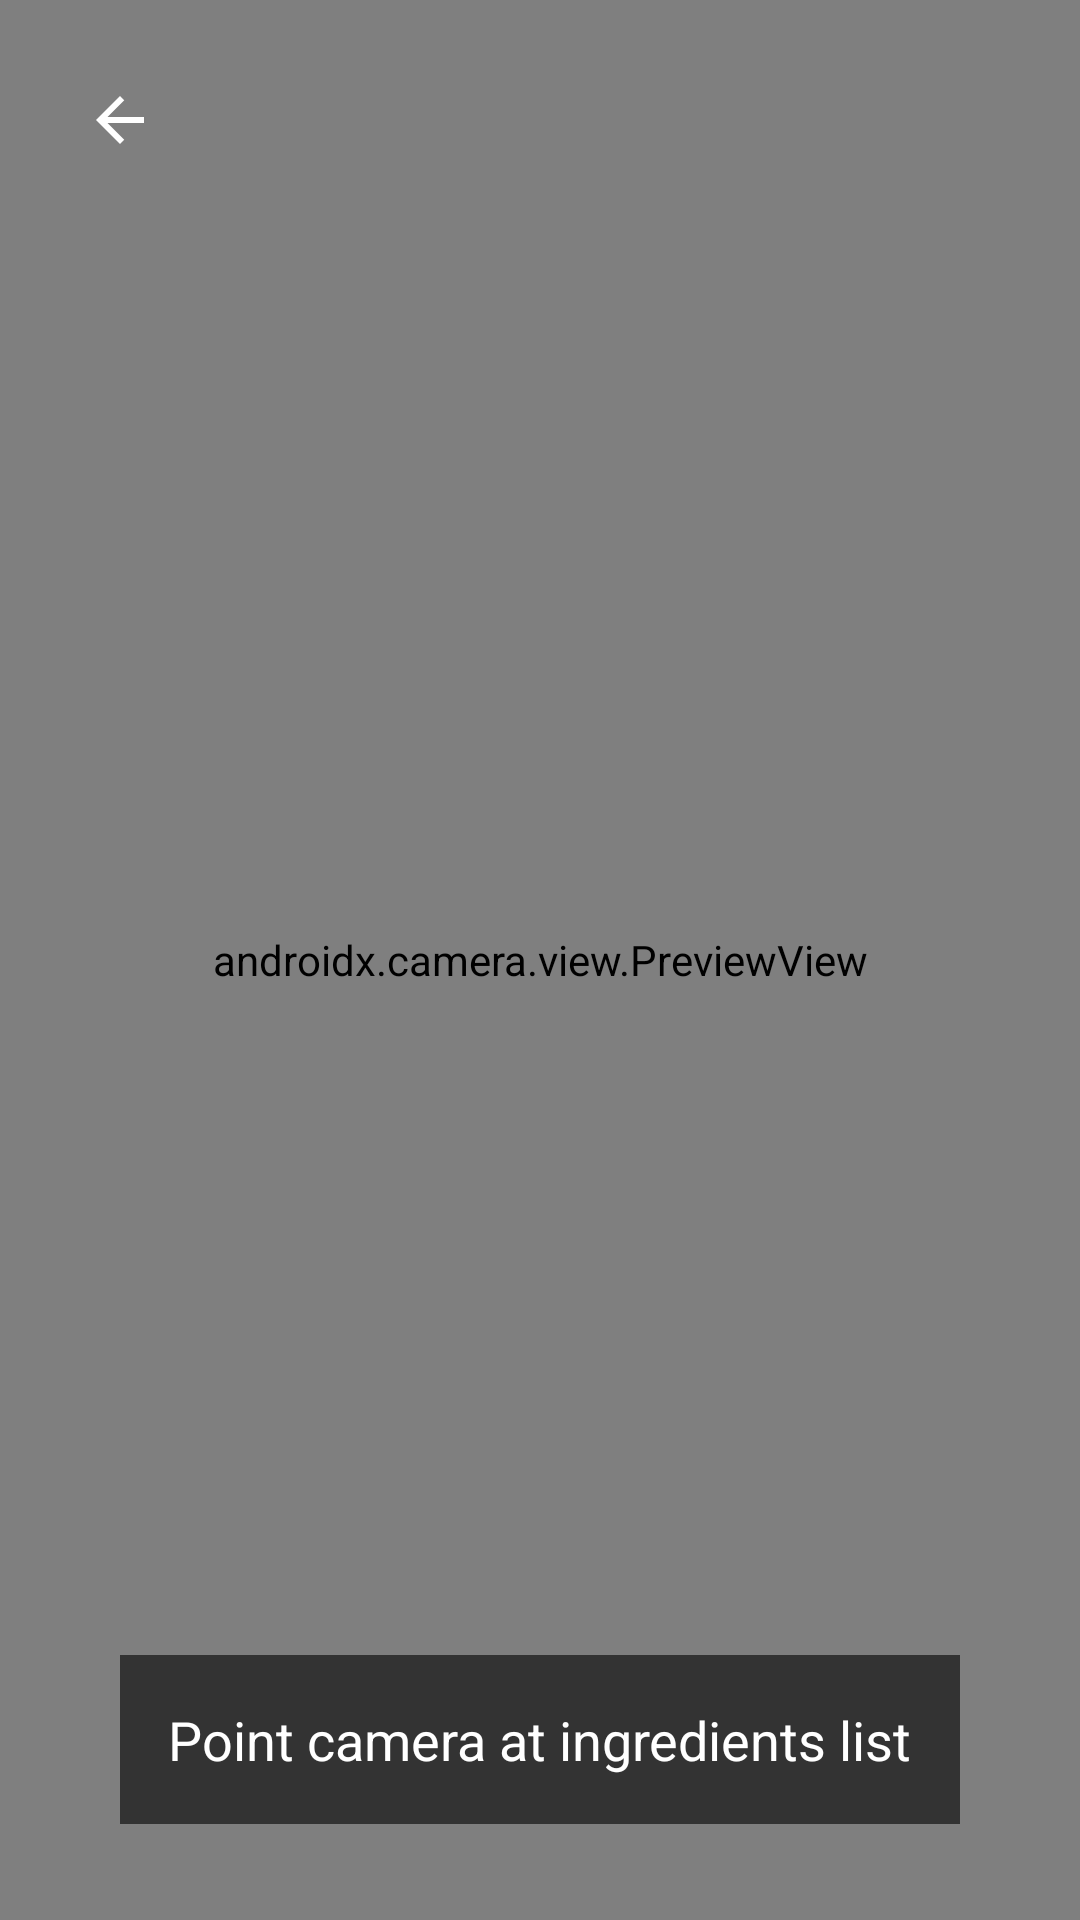

Icons on this 1080px x 1920px Android screen, each with the point to tap as (x,y):
arrow back: (120,120)
